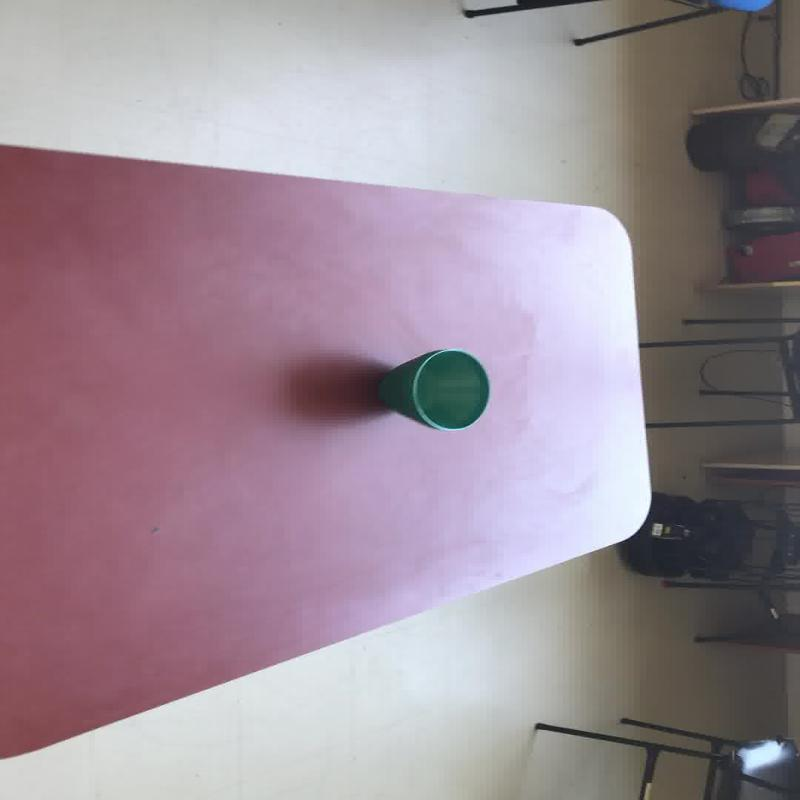bowl: (376, 347, 490, 431)
